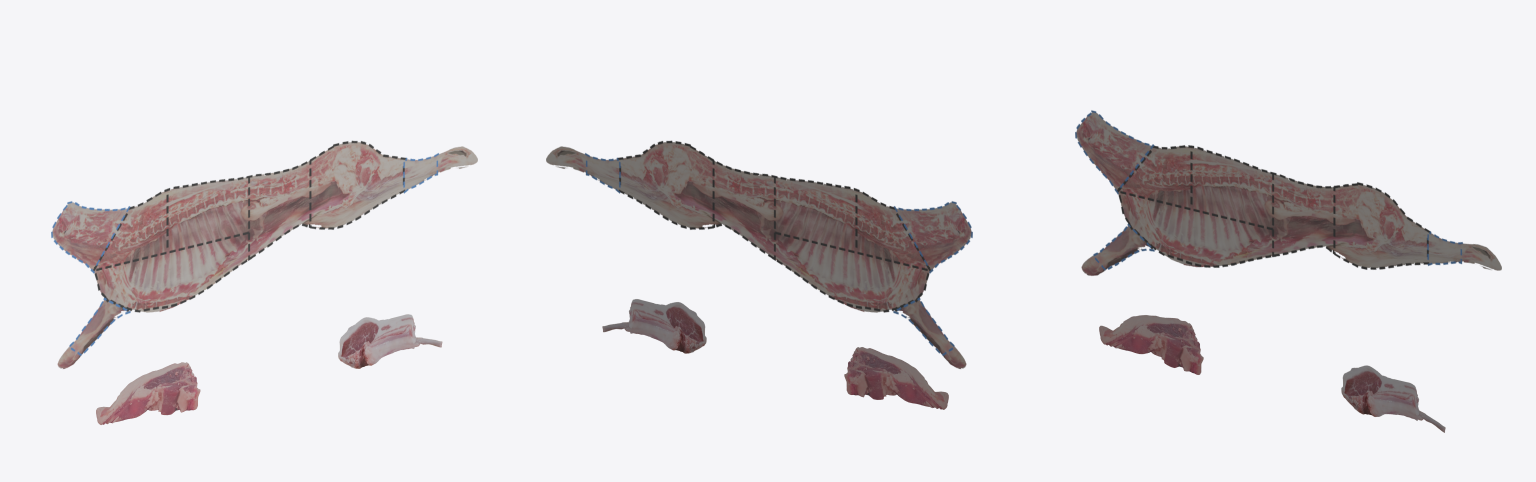
The model's file is Game_Lamb2.glb.
3 views of the same model, side by side, from view 1: azimuth 30°, elevation 25°; view 2: azimuth 150°, elevation 25°; view 3: azimuth 330°, elevation 25° (orthographic).
Parts seen in each view (by area): view 1: Lamb, Leg, Saddle; view 2: Lamb, Leg, Saddle; view 3: Lamb, Leg, Saddle.
Part boxes in pixels (<box>): Lamb: <box>51,140,477,368</box>; Leg: <box>96,362,200,424</box>; Saddle: <box>338,314,442,368</box>; Lamb: <box>546,140,972,368</box>; Leg: <box>844,347,948,409</box>; Saddle: <box>602,299,706,353</box>; Lamb: <box>1075,110,1501,275</box>; Leg: <box>1099,315,1203,374</box>; Saddle: <box>1341,365,1445,432</box>.
Size of the model in its own units: 4.01 by 2.67 by 0.1496.
3 materials, 3 textured.
